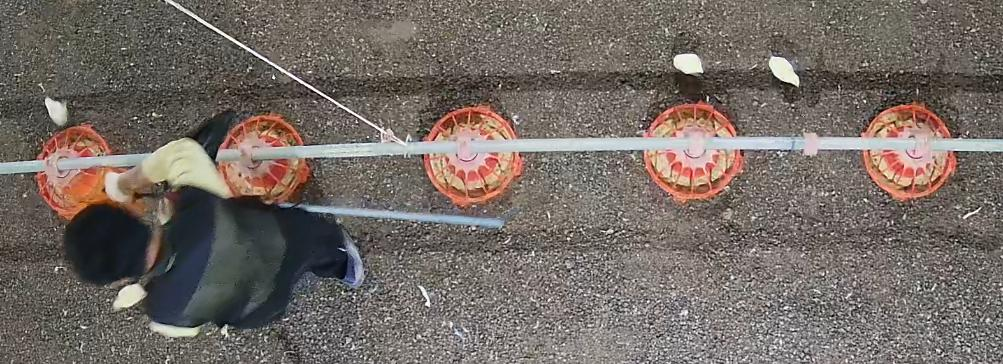chick: (768, 54, 801, 88), (44, 95, 73, 126), (672, 51, 704, 76)
rice: (422, 104, 523, 207), (642, 100, 744, 201), (861, 102, 959, 200), (216, 114, 311, 202), (36, 125, 113, 216)
